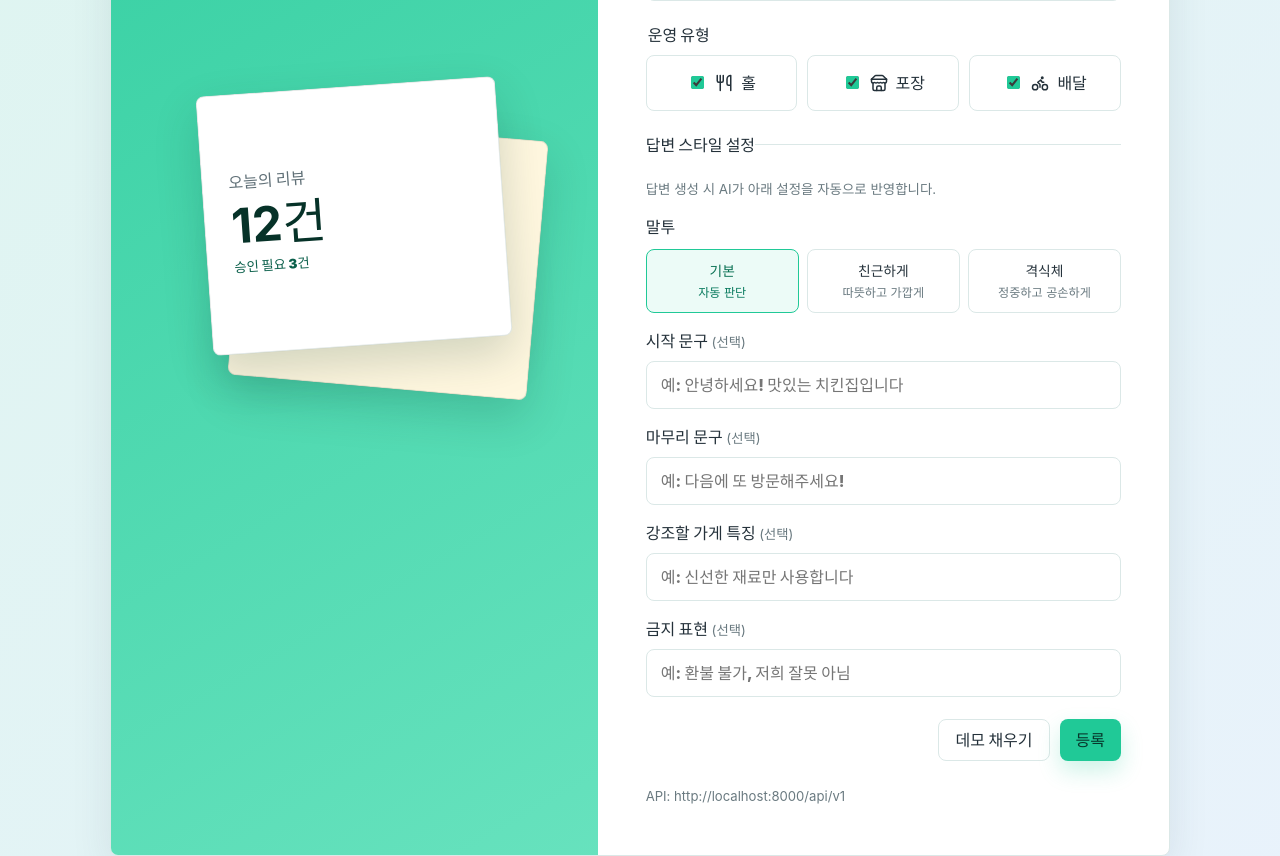
Test: Review helper SPA › setup saves store through API and routes to dashboard
(page scrolled)
Step 1. Click the button "데모 채우기" → (994, 740), box x1=938 y1=719 x2=1050 y2=761
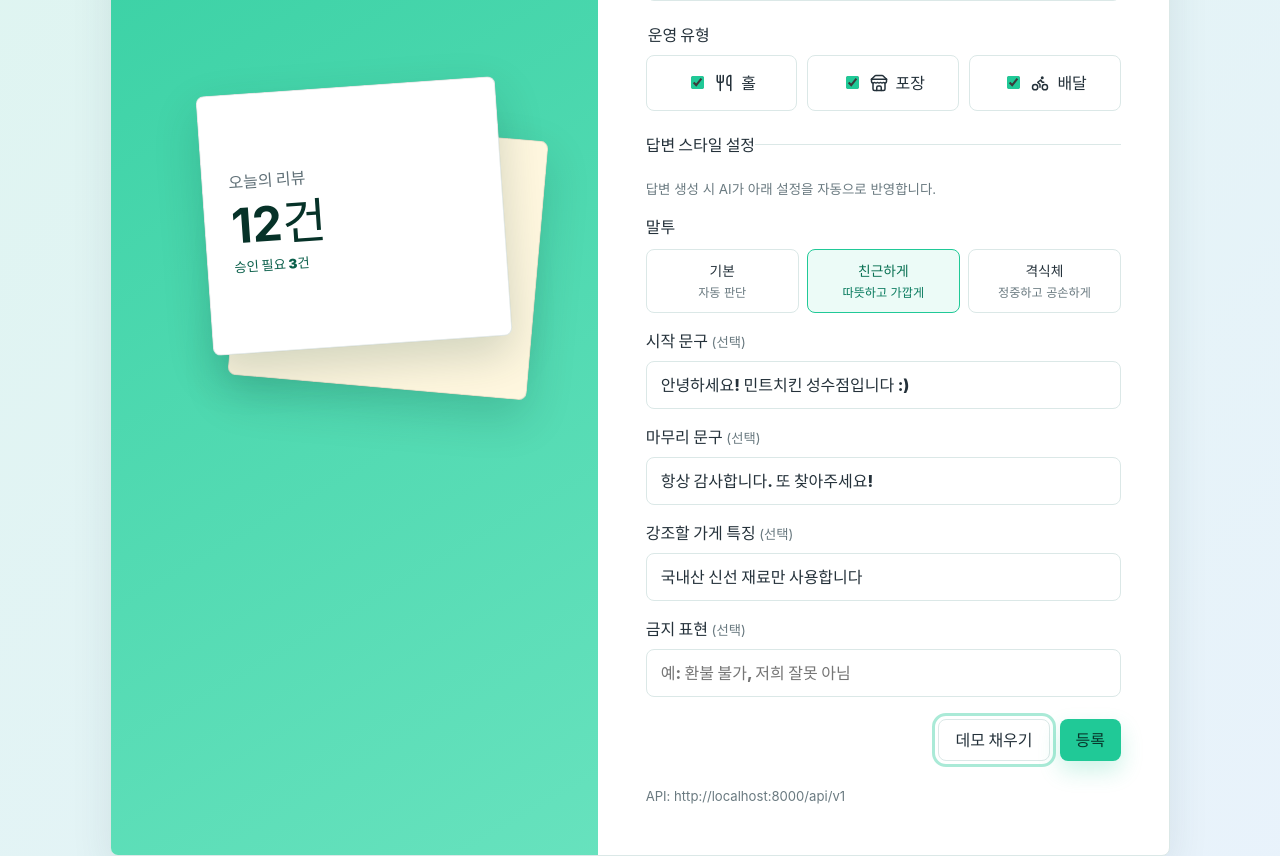
Step 2. Click the button "등록" → (1090, 740), box x1=1060 y1=719 x2=1121 y2=761
(page scrolled)
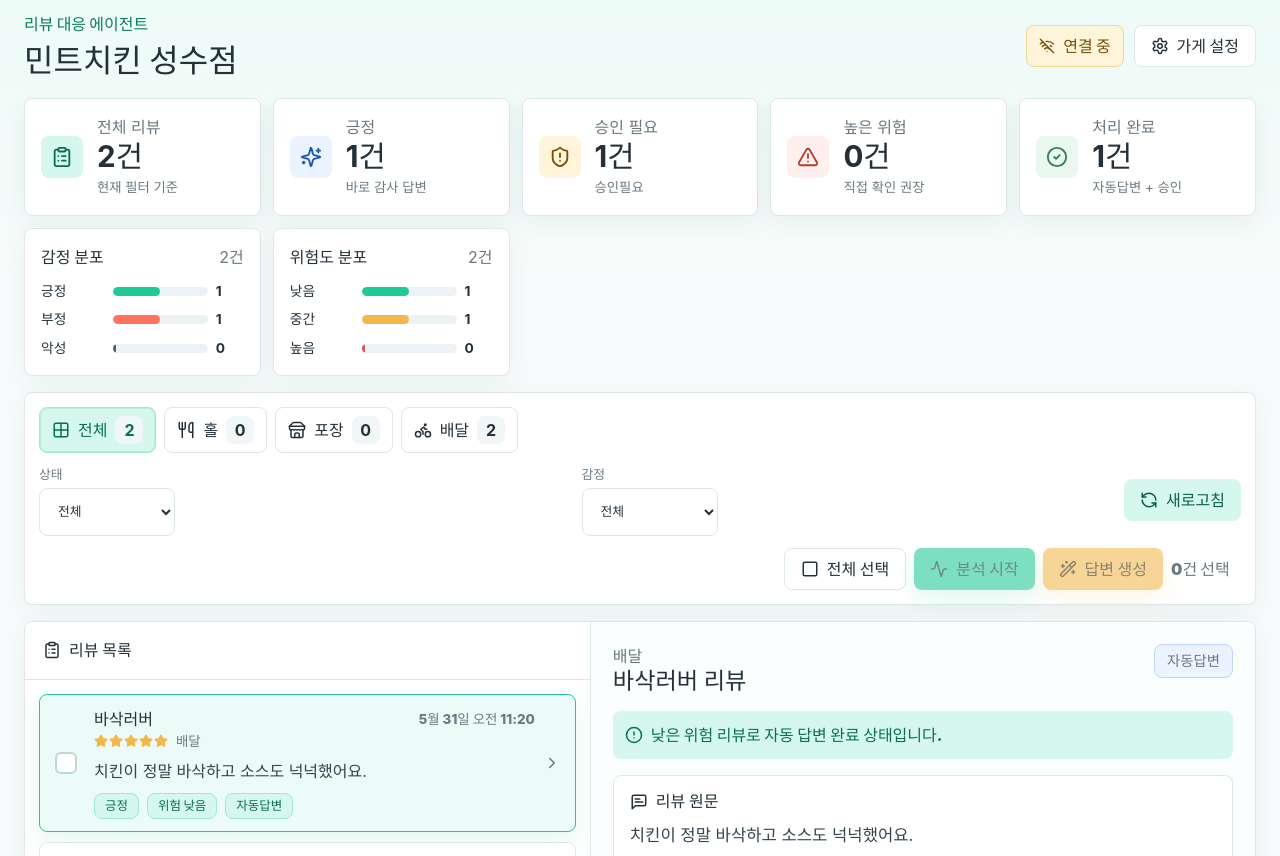
expect the heading "민트치킨 성수점" is shown: met, box x1=24 y1=42 x2=238 y2=80
